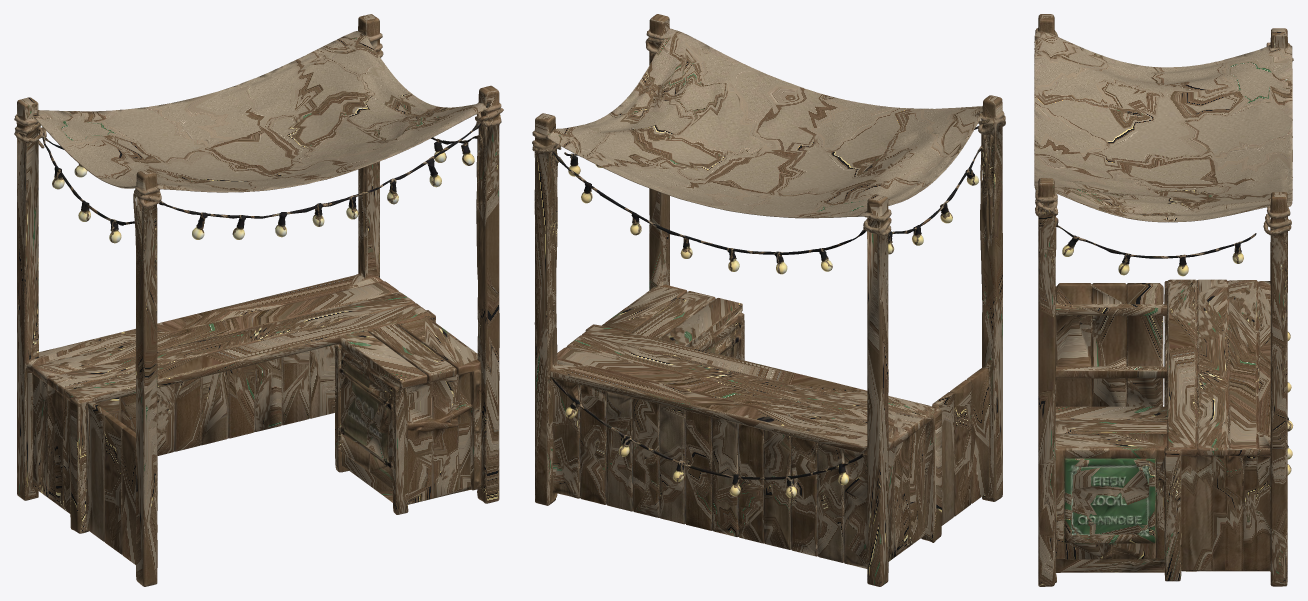
File: stall.glb
3 views of the same model, side by side, from view 1: azimuth 30°, elevation 25°; view 2: azimuth 150°, elevation 25°; view 3: azimuth 270°, elevation 25° (orthographic). The views are drawn at different scales.
Bounding box in the file's own units: 1.76 × 1.9 × 1.11.
Materials: 1 (1 with a texture image).
